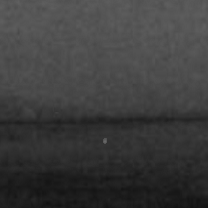Target: (102, 138, 108, 145)
